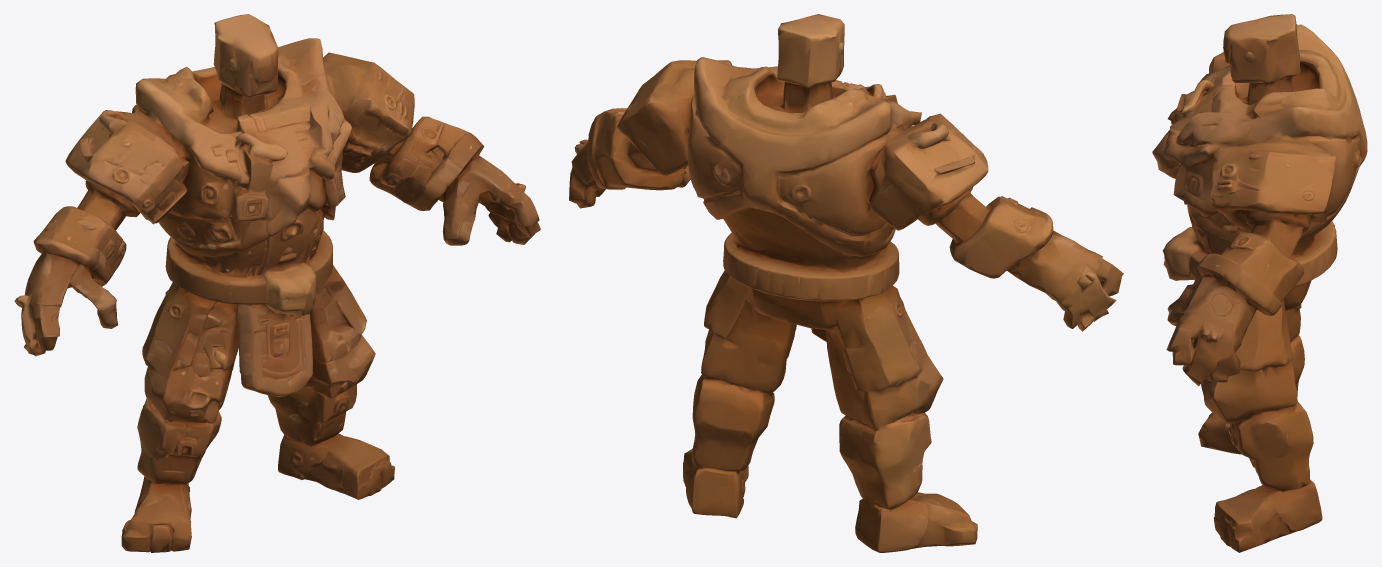
Rendered from boss_golem.glb.
3 renders of one model, left to right at view 1: azimuth 30°, elevation 25°; view 2: azimuth 150°, elevation 25°; view 3: azimuth 270°, elevation 25°, orthographic. The views are drawn at different scales.
Visible parts, largest first — view 1: tripo_node_4cac35ff-38fa-4dd2-932c-8c1cc73f5fda; view 2: tripo_node_4cac35ff-38fa-4dd2-932c-8c1cc73f5fda; view 3: tripo_node_4cac35ff-38fa-4dd2-932c-8c1cc73f5fda.
Boxes of the visible parts, x1,y1,x2,y2 form: tripo_node_4cac35ff-38fa-4dd2-932c-8c1cc73f5fda: (14, 14, 540, 552); tripo_node_4cac35ff-38fa-4dd2-932c-8c1cc73f5fda: (569, 14, 1123, 552); tripo_node_4cac35ff-38fa-4dd2-932c-8c1cc73f5fda: (1152, 14, 1367, 552).
Size of the model in its own units: 1 by 0.9012 by 0.3742.
Materials: 1 (1 with a texture image).
